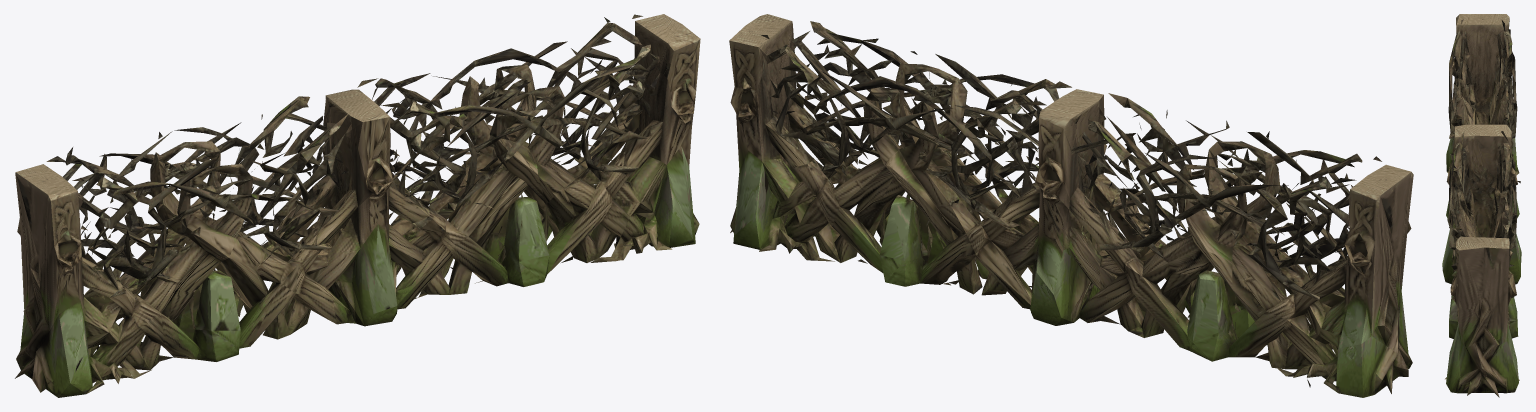
3 views of the same model, side by side, from view 1: azimuth 30°, elevation 25°; view 2: azimuth 150°, elevation 25°; view 3: azimuth 270°, elevation 25° (orthographic). The views are drawn at different scales.
Parts seen in each view (by area): view 1: sylvan_thornwall; view 2: sylvan_thornwall; view 3: sylvan_thornwall.
Boxes of the visible parts, x1,y1,x2,y2 form: sylvan_thornwall: (15,14,700,397); sylvan_thornwall: (729,14,1413,397); sylvan_thornwall: (1442,14,1521,397).
Bounding box in the file's own units: 1.89 × 0.5749 × 0.2666.
1 material, 1 textured.
